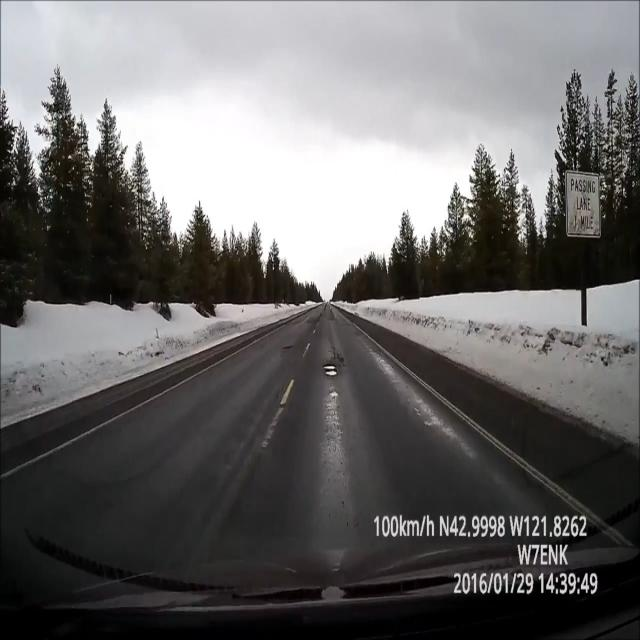Pothole: (318, 354, 344, 388)
